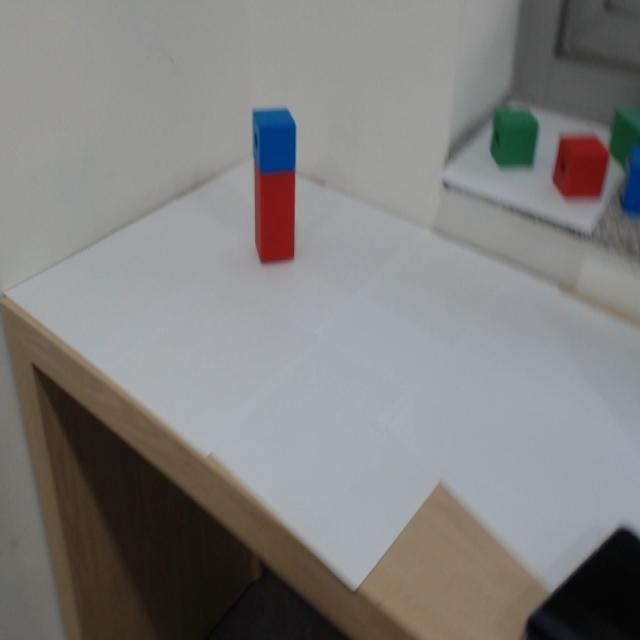cube: (238, 71, 302, 166)
